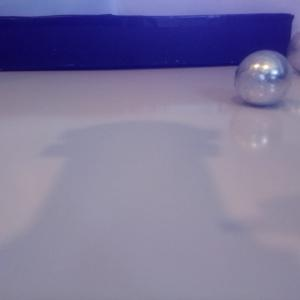zone: (1, 13, 294, 71)
